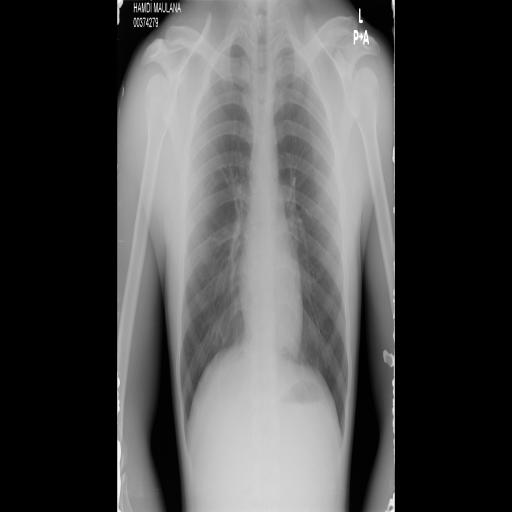normal: (172, 17, 355, 448)
